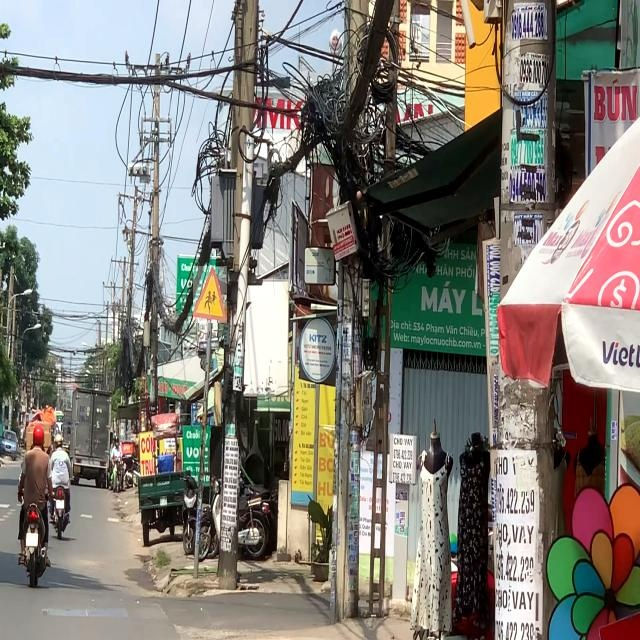bien_nguy_hiem: (193, 266, 227, 323)
